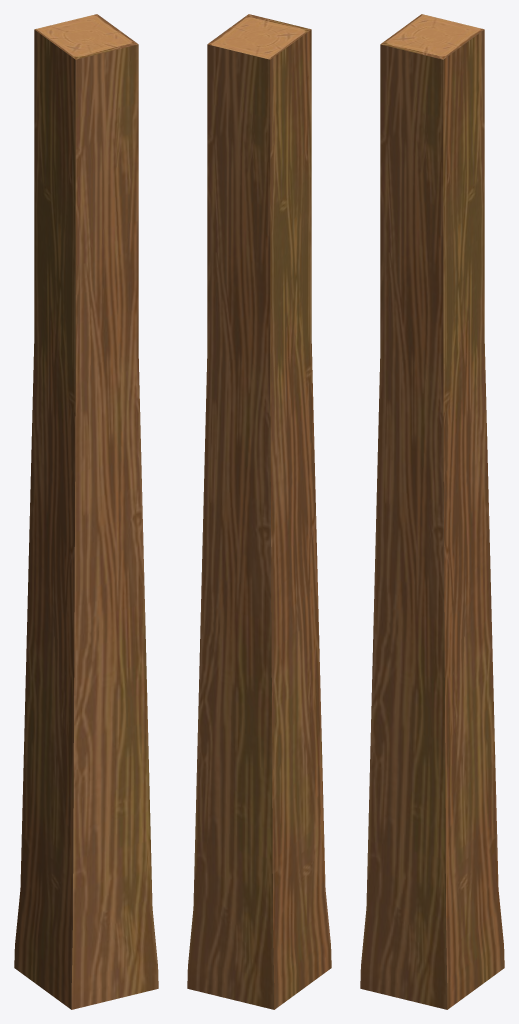
The model's file is Corner_ExteriorWide_Wood.gltf.
3 renders of one model, left to right at view 1: azimuth 30°, elevation 25°; view 2: azimuth 150°, elevation 25°; view 3: azimuth 330°, elevation 25°, orthographic.
Parts seen in each view (by area): view 1: Corner_ExteriorWide_Wood; view 2: Corner_ExteriorWide_Wood; view 3: Corner_ExteriorWide_Wood.
Part boxes in pixels (x1,y1,x2,y2): Corner_ExteriorWide_Wood: (14,14,158,1009); Corner_ExteriorWide_Wood: (187,14,331,1009); Corner_ExteriorWide_Wood: (360,14,504,1009).
Bounding box in the file's own units: 0.2905 × 3 × 0.3312.
1 material, 1 textured.
